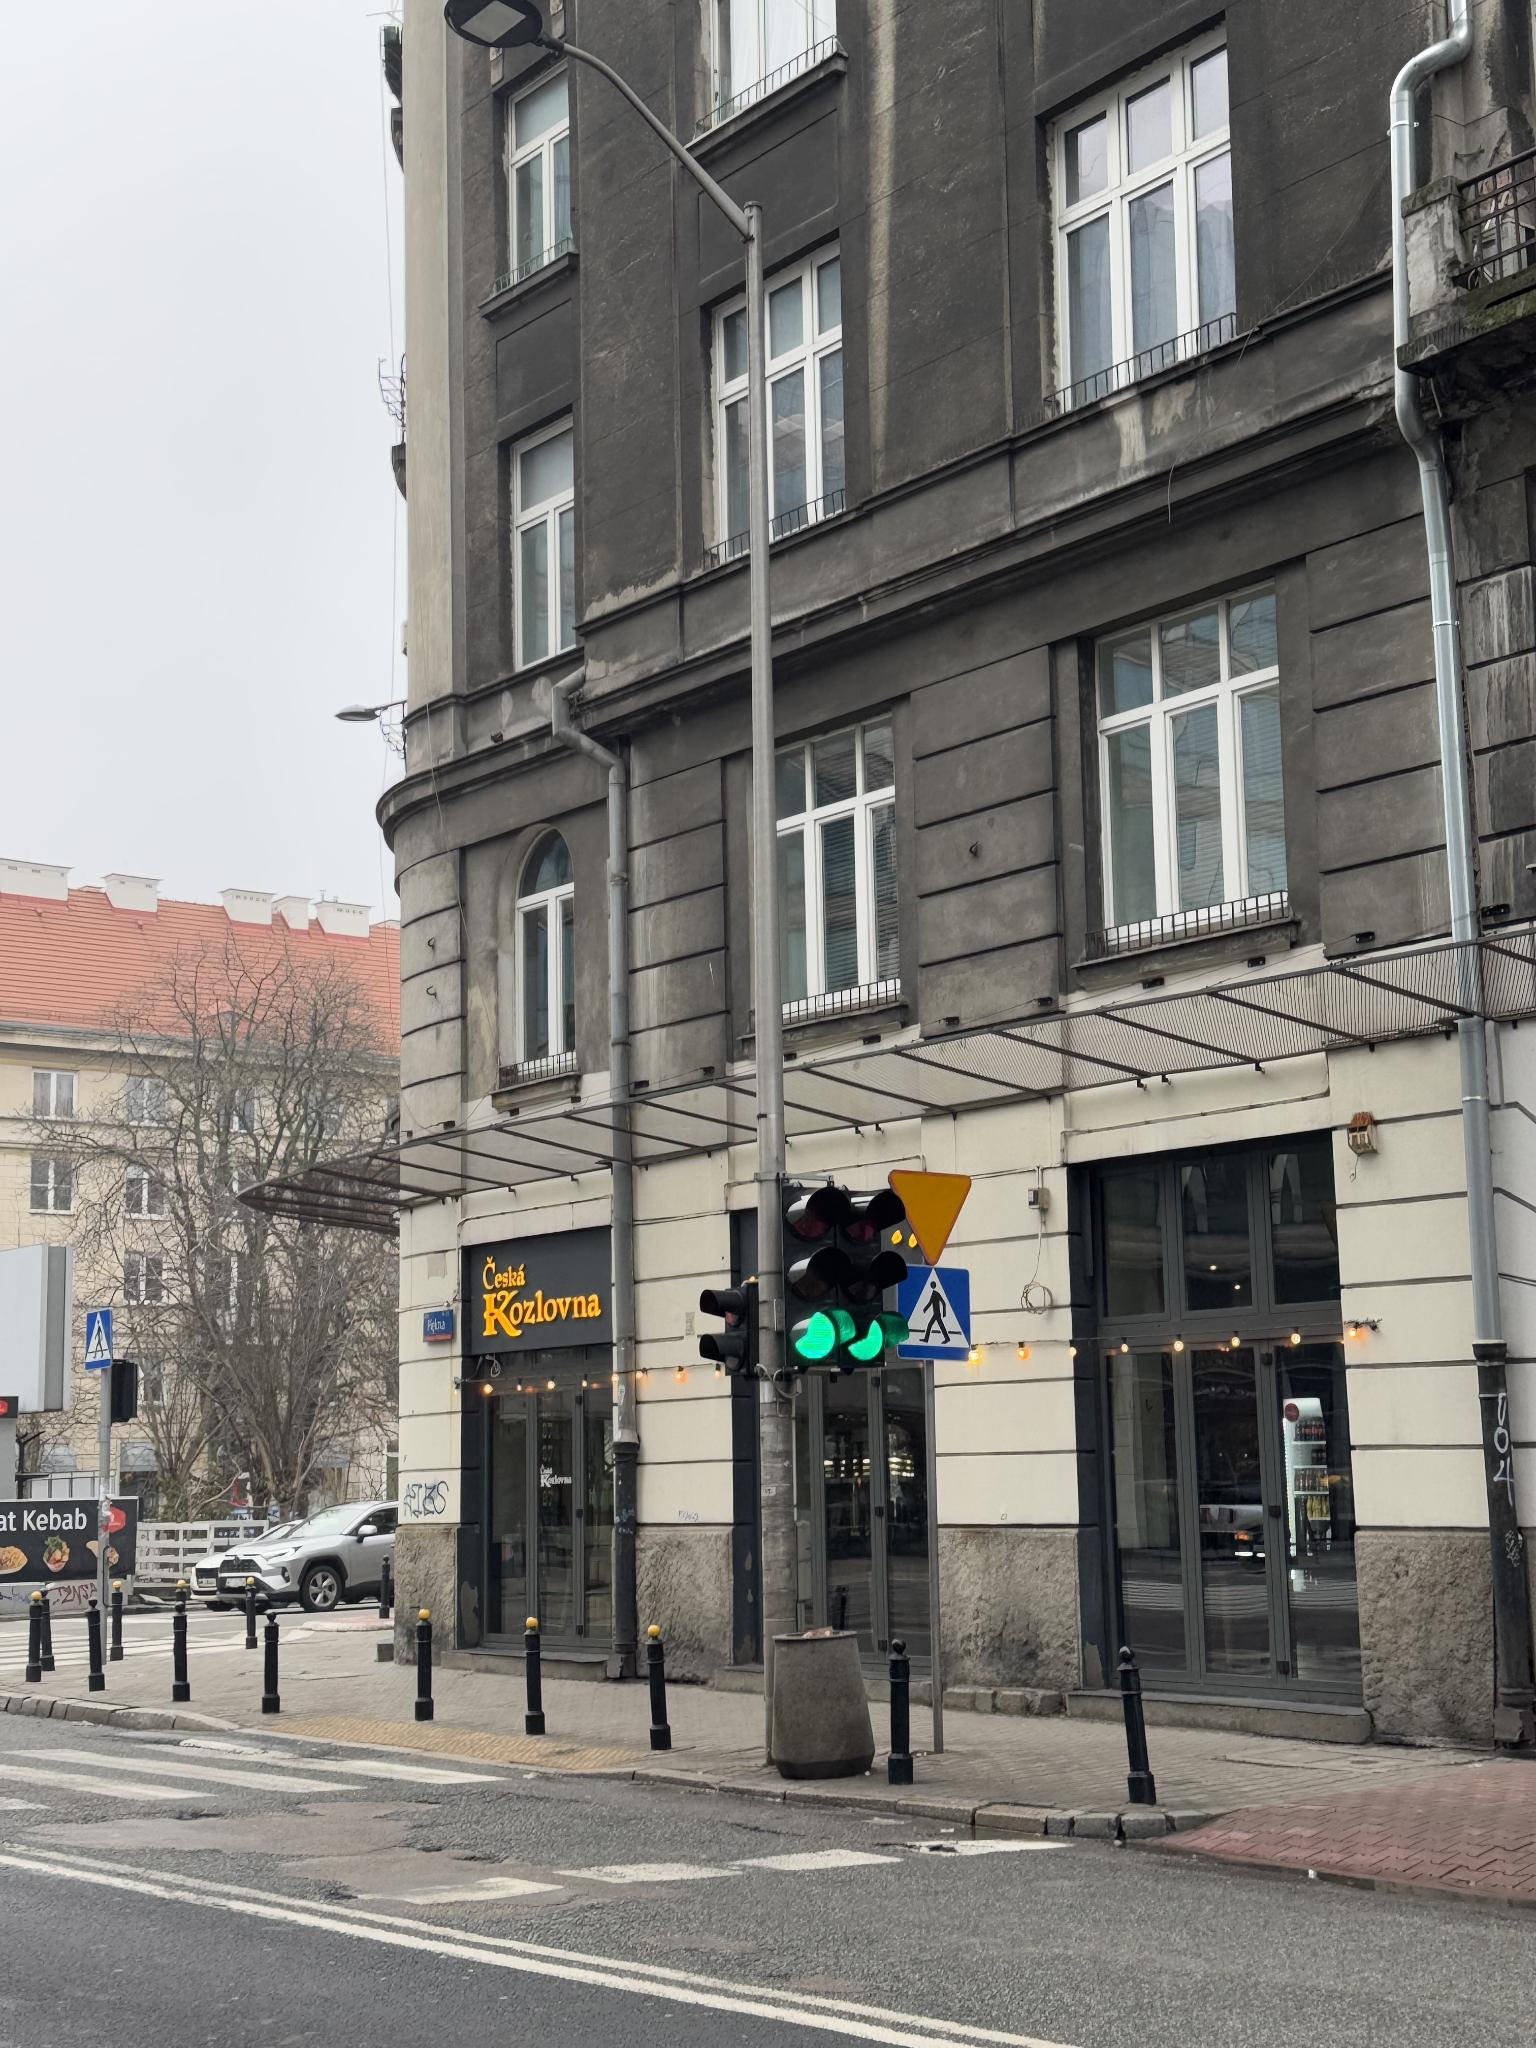information: (897, 1266, 971, 1363), (84, 1308, 113, 1369)
warning: (887, 1169, 971, 1266)
